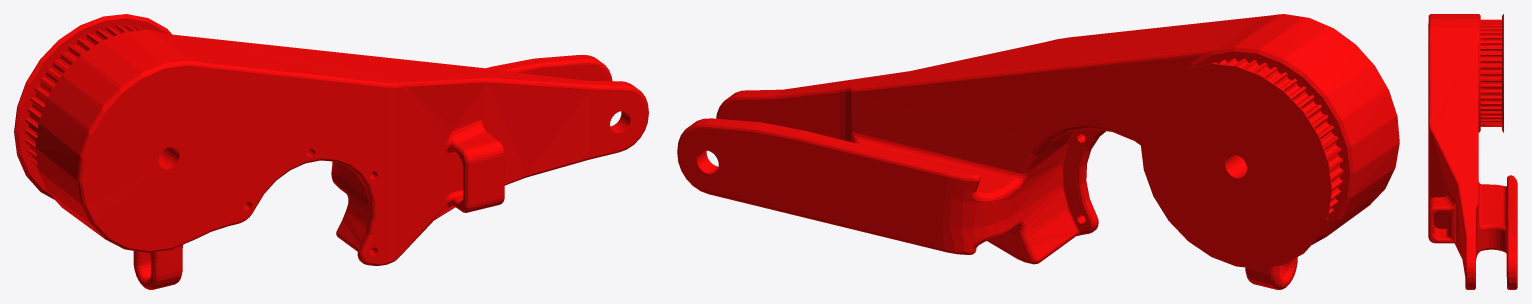
Rendered from legs_1_right_leg_1_51t_hdt5_15mm_belt_knee_right_1.glb.
3 renders of one model, left to right at view 1: azimuth 30°, elevation 25°; view 2: azimuth 150°, elevation 25°; view 3: azimuth 270°, elevation 25°, orthographic. The views are drawn at different scales.
Visible parts, largest first — view 1: legs_1_right_leg_1_51t_hdt5_15mm_belt_knee_right_1.obj; view 2: legs_1_right_leg_1_51t_hdt5_15mm_belt_knee_right_1.obj; view 3: legs_1_right_leg_1_51t_hdt5_15mm_belt_knee_right_1.obj.
Boxes of the visible parts, <box> form: legs_1_right_leg_1_51t_hdt5_15mm_belt_knee_right_1.obj: <box>14,14,648,289</box>; legs_1_right_leg_1_51t_hdt5_15mm_belt_knee_right_1.obj: <box>677,14,1399,289</box>; legs_1_right_leg_1_51t_hdt5_15mm_belt_knee_right_1.obj: <box>1428,14,1517,289</box>.
Bounding box in the file's own units: 0.2995 × 0.121 × 0.0665.
